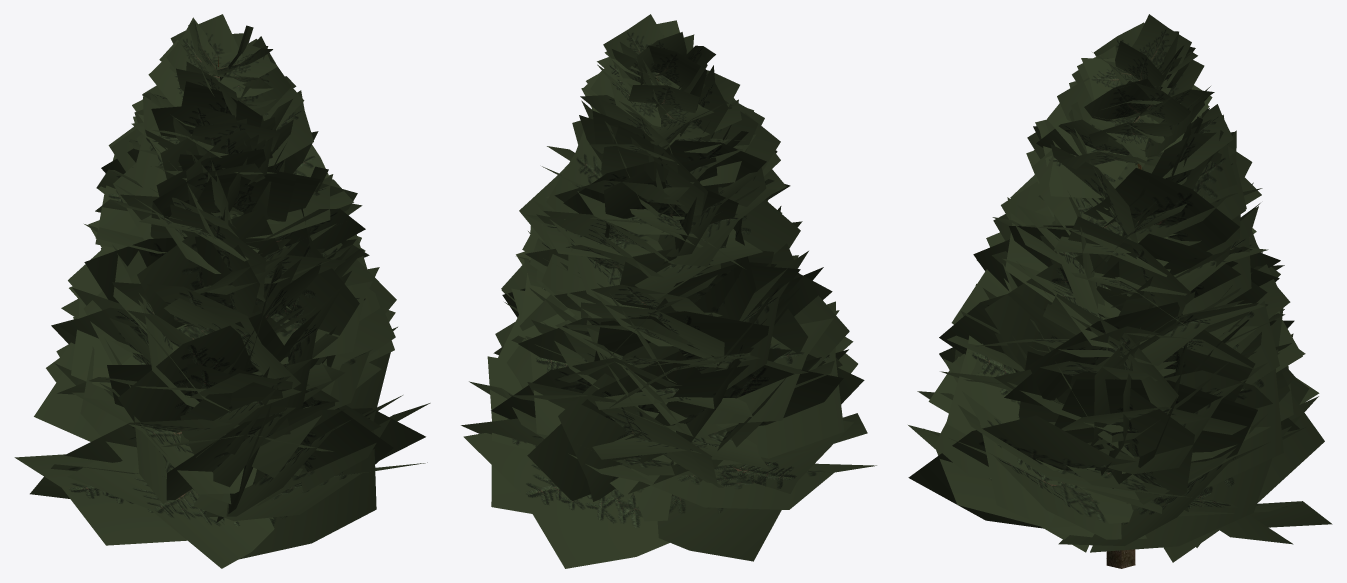
Rendered from tree1.obj.
The picture shows the model from 3 angles, left to right: view 1: azimuth 30°, elevation 25°; view 2: azimuth 150°, elevation 25°; view 3: azimuth 270°, elevation 25°; orthographic projection. The views are drawn at different scales.
Visible parts, largest first — view 1: tree1_fir; view 2: tree1_fir; view 3: tree1_fir.
Boxes of the visible parts, x1,y1,x2,y2 form: tree1_fir: (14,14,430,568); tree1_fir: (461,14,876,568); tree1_fir: (908,14,1332,568).
Bounding box in the file's own units: 7.6 × 10.61 × 7.66.
Materials: 2 (2 with a texture image).
